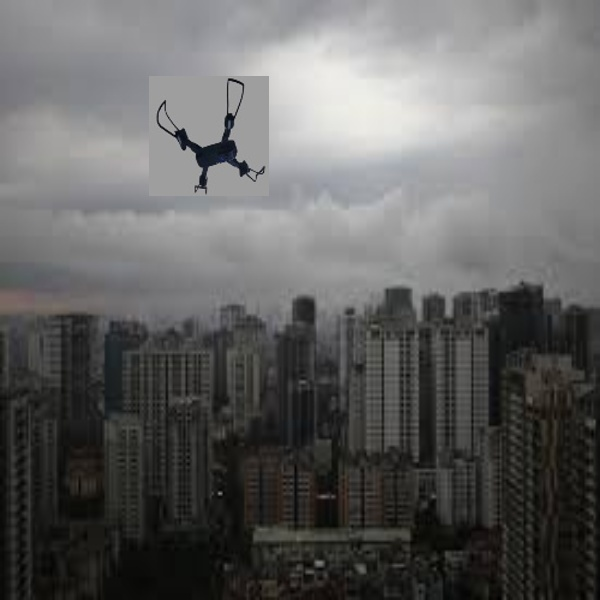drone: (150, 73, 269, 200)
